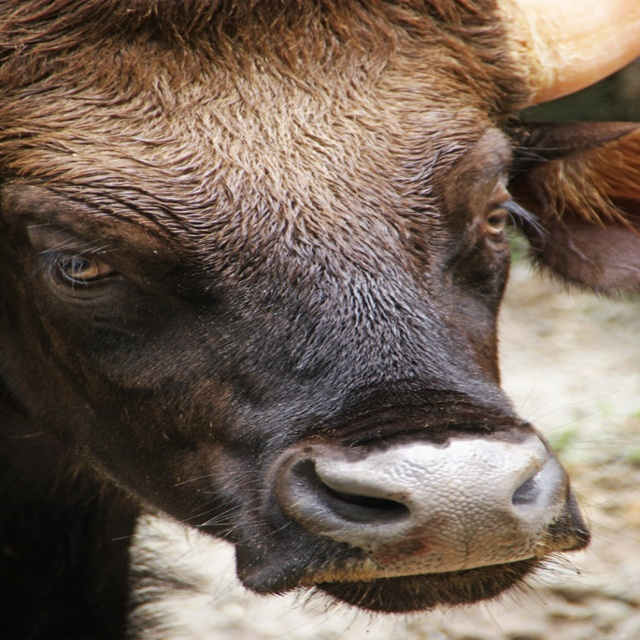Cattle: (0, 6, 640, 640)
